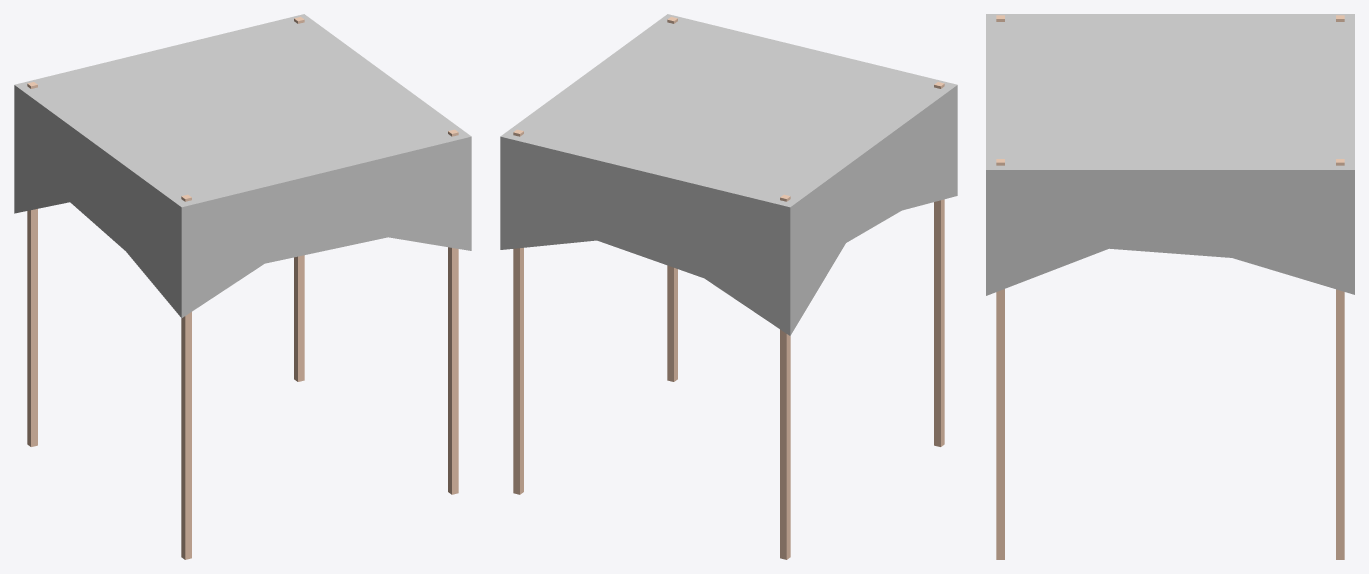
File: camo_stand_01_2x2_a.dae
The picture shows the model from 3 angles, left to right: view 1: azimuth 30°, elevation 25°; view 2: azimuth 150°, elevation 25°; view 3: azimuth 270°, elevation 25°; orthographic projection. The views are drawn at different scales.
Visible parts, largest first — view 1: camo; view 2: camo; view 3: camo.
Part boxes in pixels (left/top/right/bottom): camo: left=14, top=14, right=471, bottom=559; camo: left=500, top=14, right=957, bottom=559; camo: left=986, top=14, right=1354, bottom=559.
Size of the model in its own units: 2.12 by 2.12 by 2.52.
